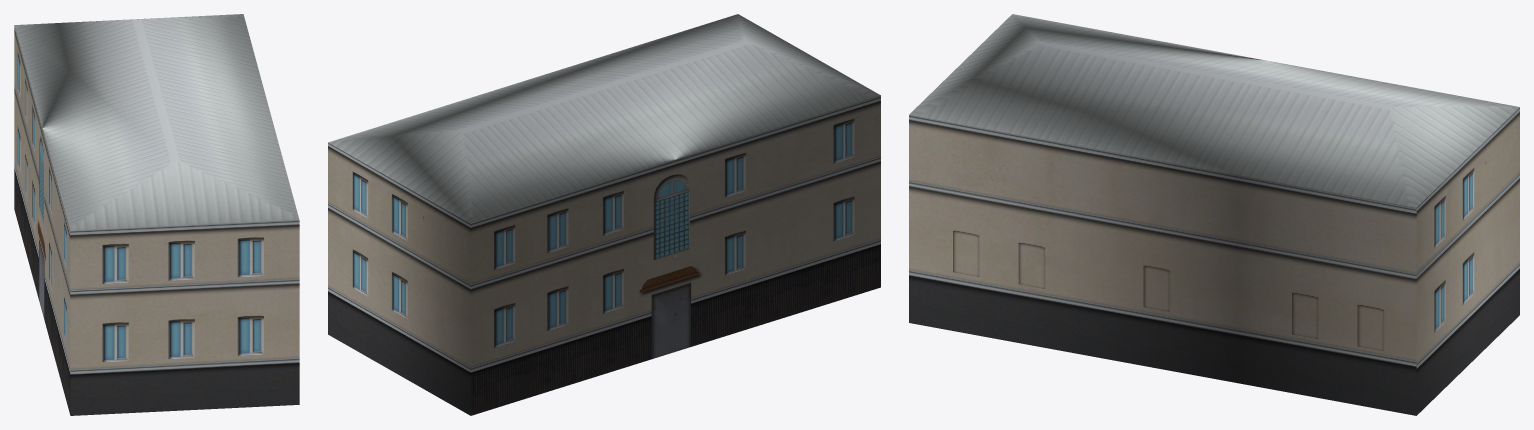
Rendered from lp-building12.fbx.
The picture shows the model from 3 angles, left to right: view 1: azimuth 30°, elevation 25°; view 2: azimuth 150°, elevation 25°; view 3: azimuth 270°, elevation 25°; orthographic projection. The views are drawn at different scales.
Parts seen in each view (by area): view 1: 01houses.023; view 2: 01houses.023; view 3: 01houses.023.
Boxes of the visible parts, bbox=[...] form: 01houses.023: bbox=[14, 14, 299, 415]; 01houses.023: bbox=[328, 14, 880, 415]; 01houses.023: bbox=[909, 14, 1519, 415].
Bounding box in the file's own units: 550 × 324 × 733.
1 material, 1 textured.
